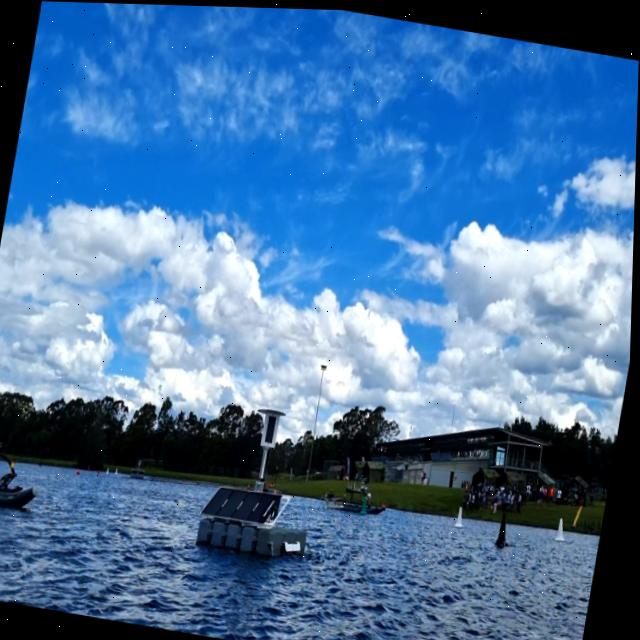led: (264, 411, 282, 445)
